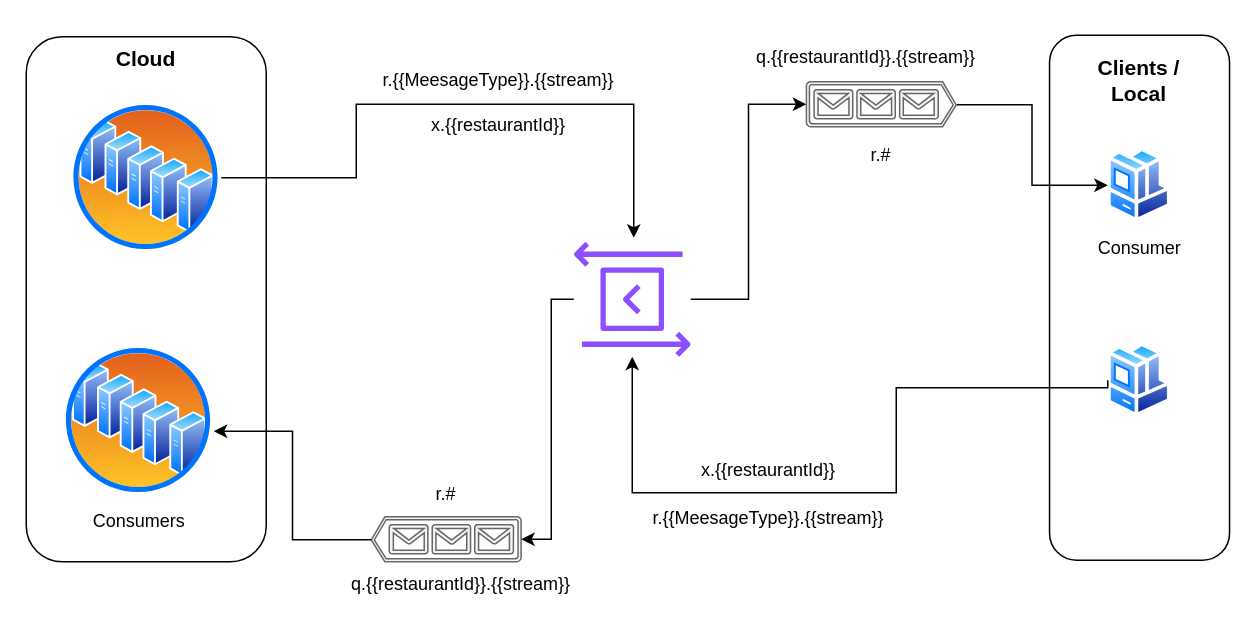
The diagram is 1257 pixels wide and 633 high, and some of its shapes have lost their labels. The box of each missing label's shape, as (x1, y1, x2, y2) in pixels:
Publisher: (1107, 342, 1171, 417)
Publishers: (70, 102, 220, 252)
